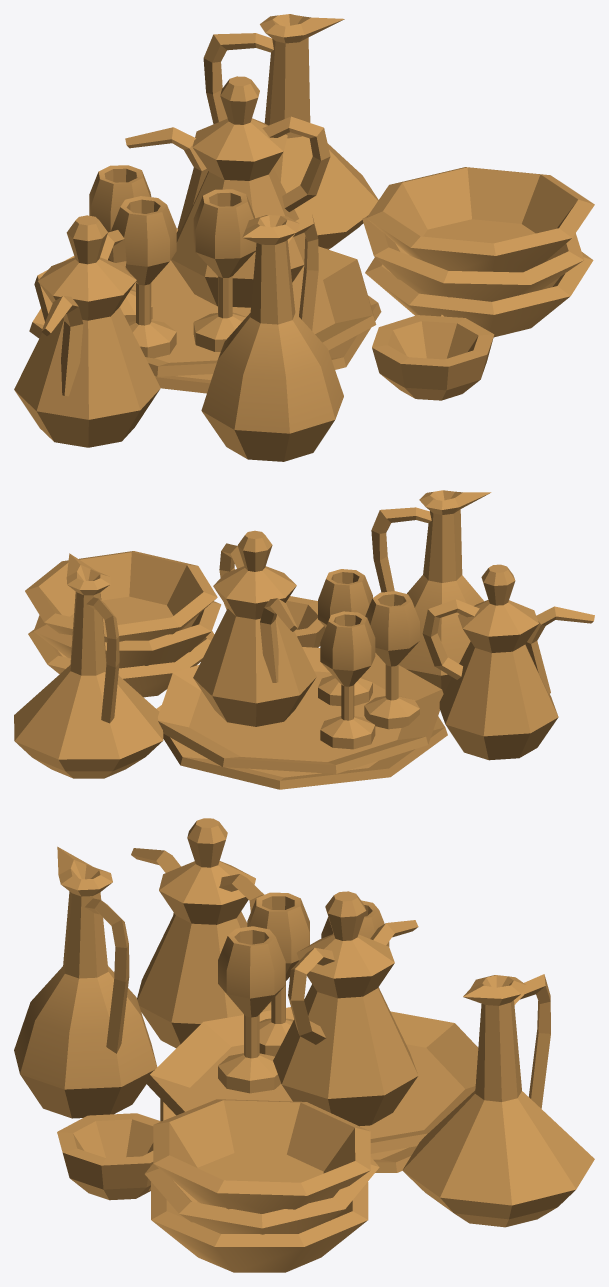
File: SM_Prop_Gold_Plates_Preset_01.glb
3 views of the same model, one above another, from view 1: azimuth 30°, elevation 25°; view 2: azimuth 150°, elevation 25°; view 3: azimuth 270°, elevation 25° (orthographic). The views are drawn at different scales.
Parts seen in each view (by area): view 1: SM_Prop_Gold_Plates_Preset_01; view 2: SM_Prop_Gold_Plates_Preset_01; view 3: SM_Prop_Gold_Plates_Preset_01.
Boxes of the visible parts, bbox=[...] form: SM_Prop_Gold_Plates_Preset_01: bbox=[14, 14, 594, 461]; SM_Prop_Gold_Plates_Preset_01: bbox=[14, 490, 594, 789]; SM_Prop_Gold_Plates_Preset_01: bbox=[14, 818, 594, 1272].
Size of the model in its own units: 1.25 by 0.5011 by 1.05.
Materials: 1 (1 with a texture image).
